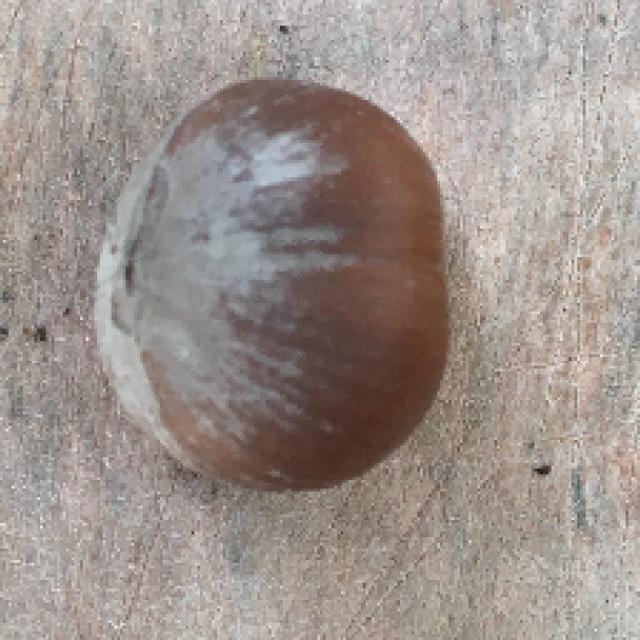DamagedHazelnut: (84, 80, 453, 491)
